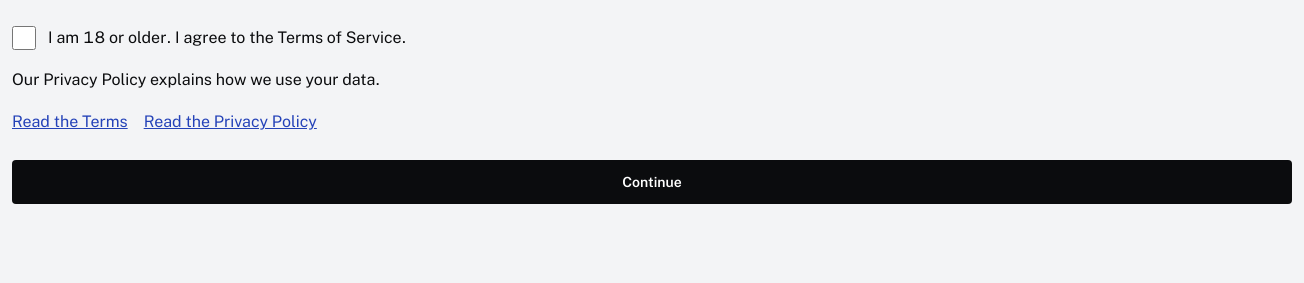
agreement forms and sheets › X2 agree action error: Check the box to agree first.
This screenshot has width=1304, height=283.
Click the checkbox labelled "I am 18 or older. I agree to the Terms of Service.": point(24, 38) 12,26 -> 36,50
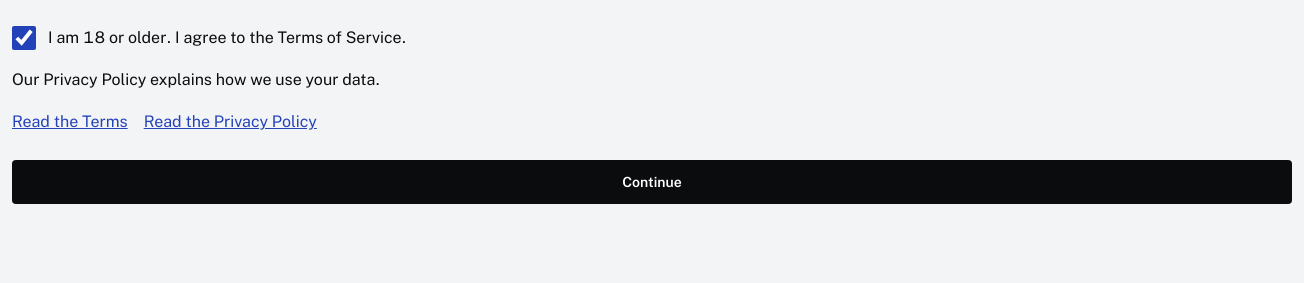
Submit the form named "Continue"
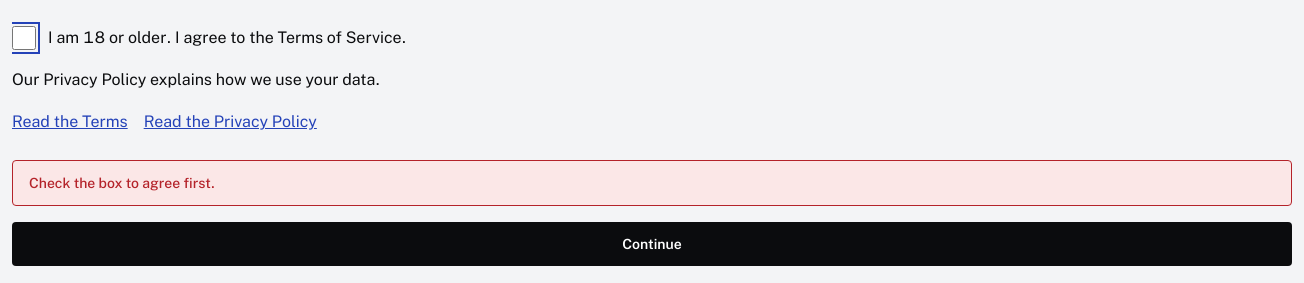
Expected: the message reads "Check the box to agree first.", 29,175 -> 215,191
